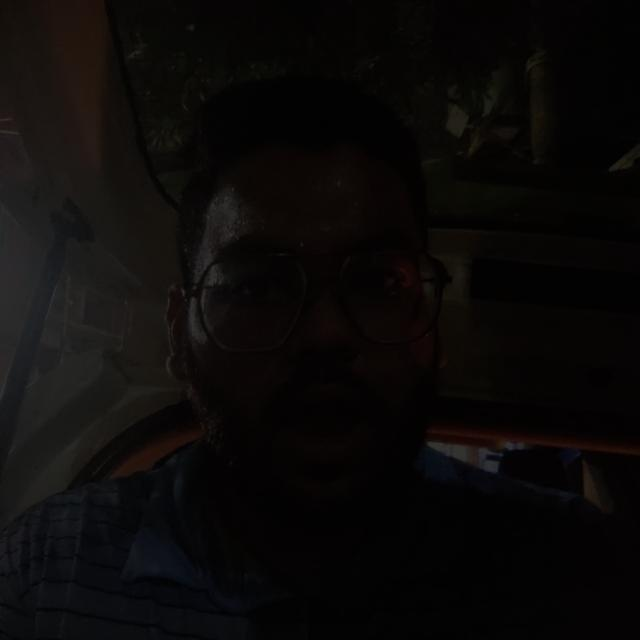Surprised: (152, 126, 481, 532)
